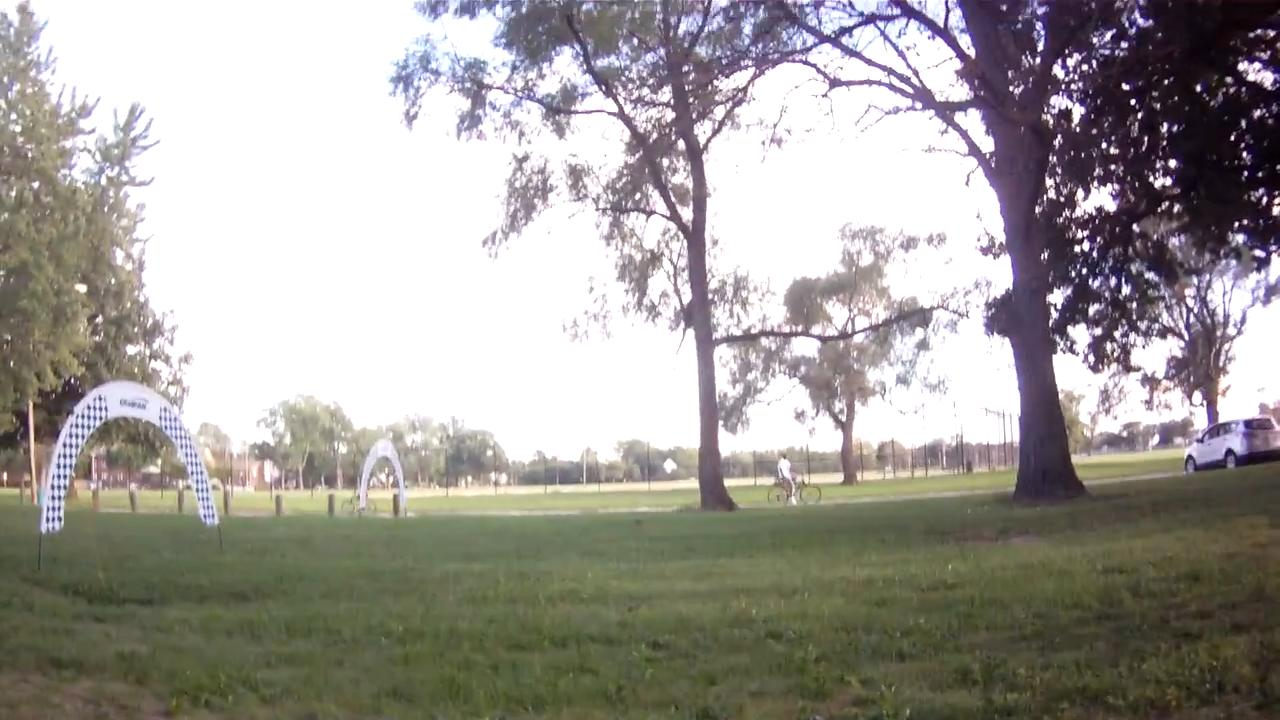gate: (36, 379, 220, 546)
